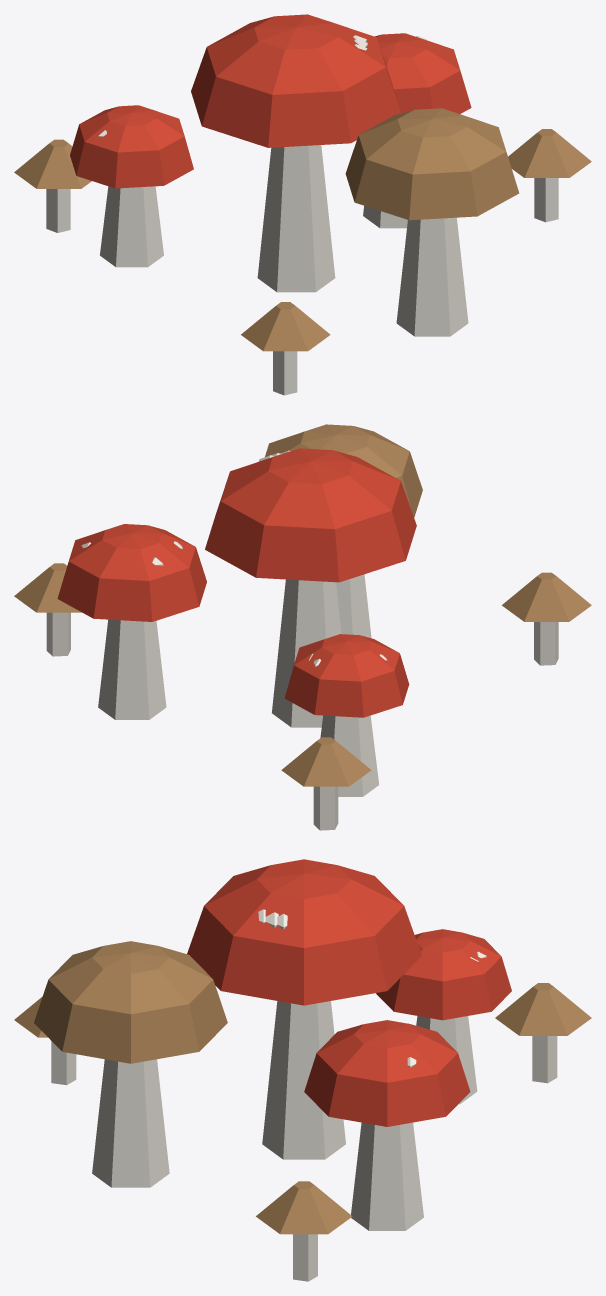
File: mushrooms.glb
3 views of the same model, one above another, from view 1: azimuth 30°, elevation 25°; view 2: azimuth 150°, elevation 25°; view 3: azimuth 270°, elevation 25° (orthographic). The views are drawn at different scales.
Parts seen in each view (by area): view 1: mushrooms; view 2: mushrooms; view 3: mushrooms.
Boxes of the visible parts, x1,y1,x2,y2 form: mushrooms: (14, 14, 591, 395); mushrooms: (14, 424, 591, 830); mushrooms: (14, 859, 591, 1281).
Size of the model in its own units: 0.7984 by 0.4305 by 0.8339.
